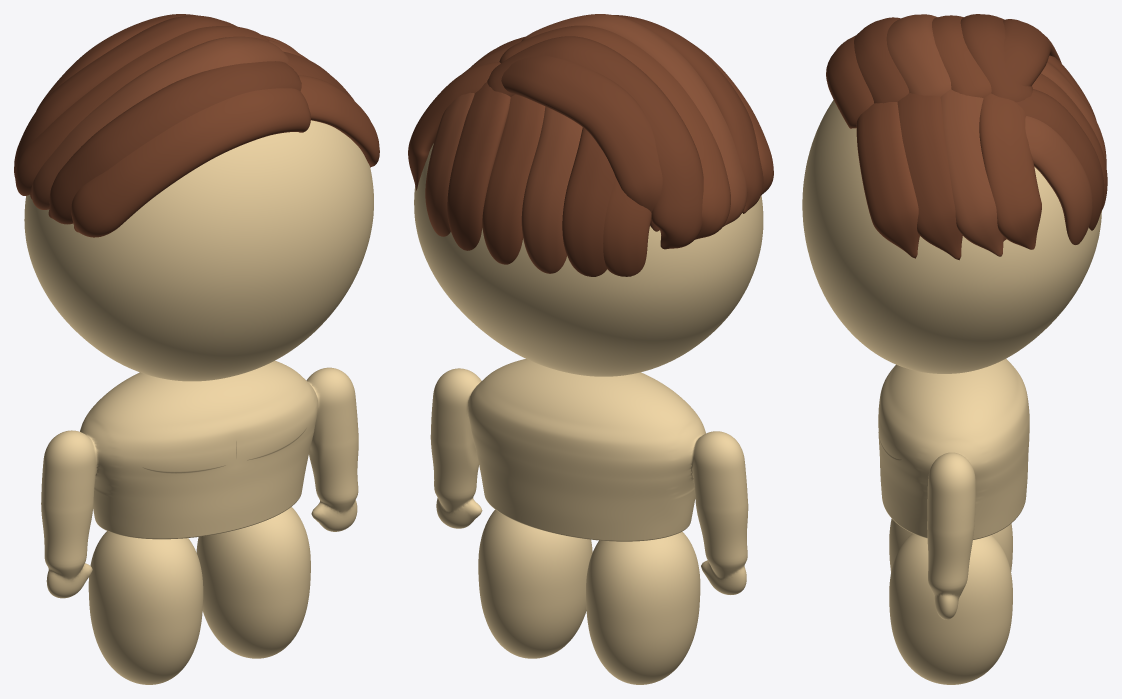
File: Masculine-shirtless-hands-mitten-base.glb
3 renders of one model, left to right at view 1: azimuth 30°, elevation 25°; view 2: azimuth 150°, elevation 25°; view 3: azimuth 270°, elevation 25°, orthographic.
Parts seen in each view (by area): view 1: Skin / soft oval head, Skin / rounded torso, Skin / leg blob -1, Skin / leg blob 1, Hair / Side part main 0, Hair / Side part main 1, Hair / Side part main 2, Hair / Side part main 3, Hair / Side part main 4, Hair / Side part short 0, Hair / Side part crown, Hair / Side part short 1; view 2: Skin / rounded torso, Skin / soft oval head, Skin / leg blob -1, Skin / leg blob 1, Hair / Side part crown, Hair / Side part main 4, Hair / Side part nape 2, Hair / Side part main 3, Hair / Side part nape 3, Hair / Side part nape 4, Hair / Side part main 2, Hair / Side part nape 1 (+5 smaller); view 3: Skin / soft oval head, Skin / rounded torso, Skin / leg blob 1, Hair / Side part short 3, Hair / Side part short 0, Hair / Side part short 1, Hair / Side part short 2, Hair / Side part nape 5, Hair / Side part main 2, Hair / Side part nape 4, Hair / Side part main 4, Hair / Side part main 1 (+6 smaller).
Part boxes in pixels (bbox=[...]): Skin / soft oval head: bbox=[24, 120, 373, 381]; Skin / rounded torso: bbox=[41, 360, 358, 598]; Skin / leg blob -1: bbox=[88, 531, 203, 684]; Skin / leg blob 1: bbox=[196, 507, 310, 658]; Hair / Side part main 0: bbox=[71, 88, 310, 237]; Hair / Side part main 1: bbox=[48, 61, 301, 224]; Hair / Side part main 2: bbox=[31, 36, 288, 209]; Hair / Side part main 3: bbox=[15, 26, 269, 195]; Hair / Side part main 4: bbox=[14, 15, 236, 177]; Hair / Side part short 0: bbox=[298, 75, 379, 167]; Hair / Side part crown: bbox=[36, 14, 197, 110]; Hair / Side part short 1: bbox=[283, 51, 354, 100]; Skin / rounded torso: bbox=[430, 359, 748, 594]; Skin / soft oval head: bbox=[414, 143, 763, 376]; Skin / leg blob -1: bbox=[586, 531, 700, 684]; Skin / leg blob 1: bbox=[478, 509, 592, 658]; Hair / Side part crown: bbox=[501, 55, 662, 231]; Hair / Side part main 4: bbox=[487, 36, 703, 249]; Hair / Side part nape 2: bbox=[521, 106, 582, 273]; Hair / Side part main 3: bbox=[499, 25, 730, 239]; Hair / Side part nape 3: bbox=[482, 94, 545, 264]; Hair / Side part nape 4: bbox=[447, 82, 510, 250]; Hair / Side part main 2: bbox=[521, 14, 747, 226]; Hair / Side part nape 1: bbox=[562, 127, 615, 276]; Skin / soft oval head: bbox=[802, 100, 1101, 373]; Skin / rounded torso: bbox=[878, 359, 1029, 619]; Skin / leg blob 1: bbox=[889, 533, 1012, 684]; Hair / Side part short 3: bbox=[979, 93, 1041, 249]; Hair / Side part short 0: bbox=[856, 102, 919, 258]; Hair / Side part short 1: bbox=[897, 93, 962, 260]; Hair / Side part short 2: bbox=[940, 89, 1003, 256]; Hair / Side part nape 5: bbox=[1025, 116, 1092, 244]; Hair / Side part main 2: bbox=[886, 14, 951, 96]; Hair / Side part nape 4: bbox=[1016, 89, 1104, 230]; Hair / Side part main 4: bbox=[960, 14, 1032, 102]; Hair / Side part main 1: bbox=[854, 17, 909, 103].
Size of the model in its own units: 0.9754 by 1.87 by 0.825.
